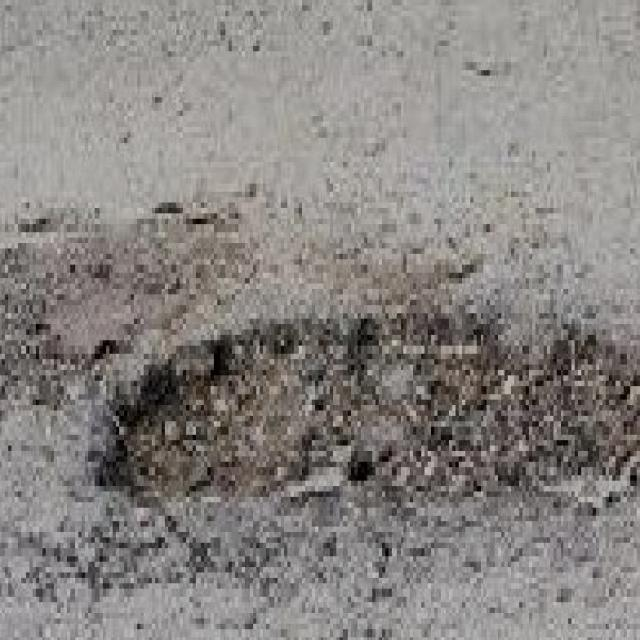road-pothole: (95, 306, 638, 512)
